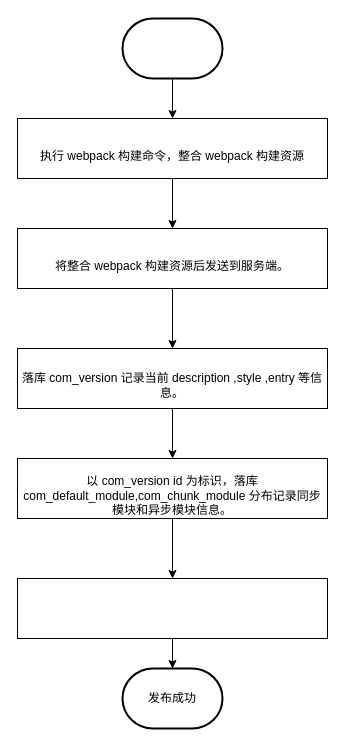
This 345x746 diagram has some shape labels left out. The box of each missing label's shape, as (x1, y1, x2, y2) in pixels:
以 com_default_module,com_chunk_module module 字段为标识落库源码。: (16, 578, 328, 638)
组件发布: (121, 17, 223, 79)
